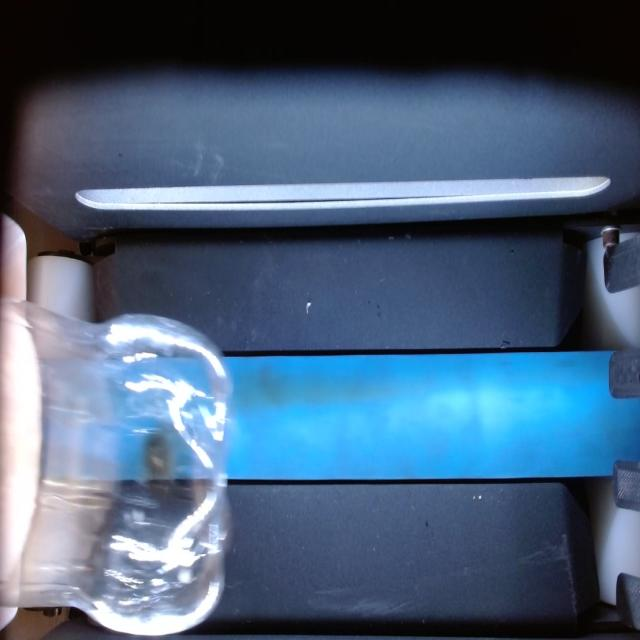bottom: (0, 300, 230, 633)
